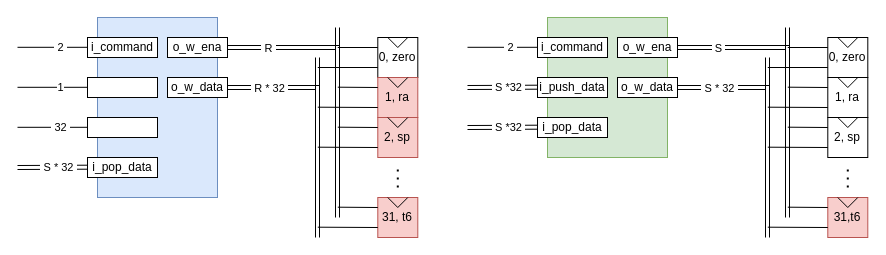
Image size: 886x255. Some labels were removed from this diagram. Here are the shapes that lost their labels. From the top down, the centre of each, then its label:
point 122,87: i_w_ena
point 122,127: i_w_data
